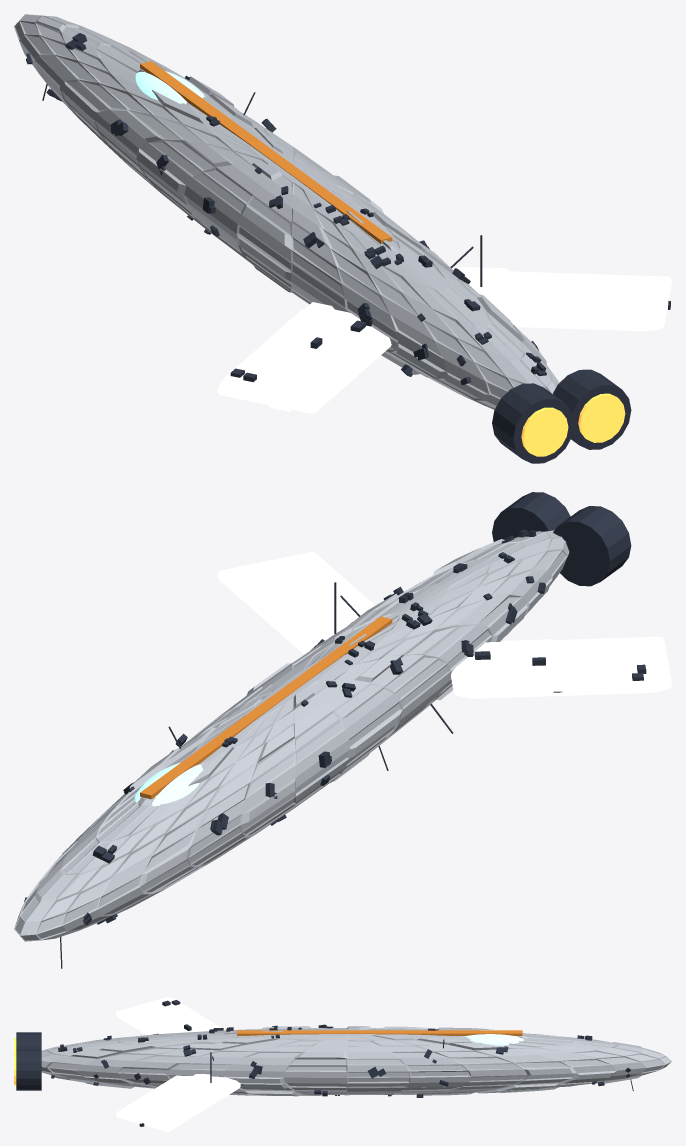
File: humans_small.glb
The picture shows the model from 3 angles, top to bottom: view 1: azimuth 30°, elevation 25°; view 2: azimuth 150°, elevation 25°; view 3: azimuth 270°, elevation 25°; orthographic projection. The views are drawn at different scales.
Visible parts, largest first — view 1: humans_small; view 2: humans_small; view 3: humans_small.
Boxes of the visible parts, box(x1,y1,x2,y2) form: humans_small: box(14, 14, 671, 463); humans_small: box(14, 492, 671, 968); humans_small: box(14, 997, 671, 1131).
Size of the model in its own units: 4.72 by 1.29 by 10.
